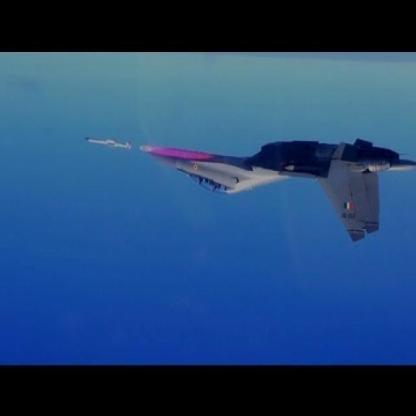MIL_TBM: (83, 136, 131, 150)
